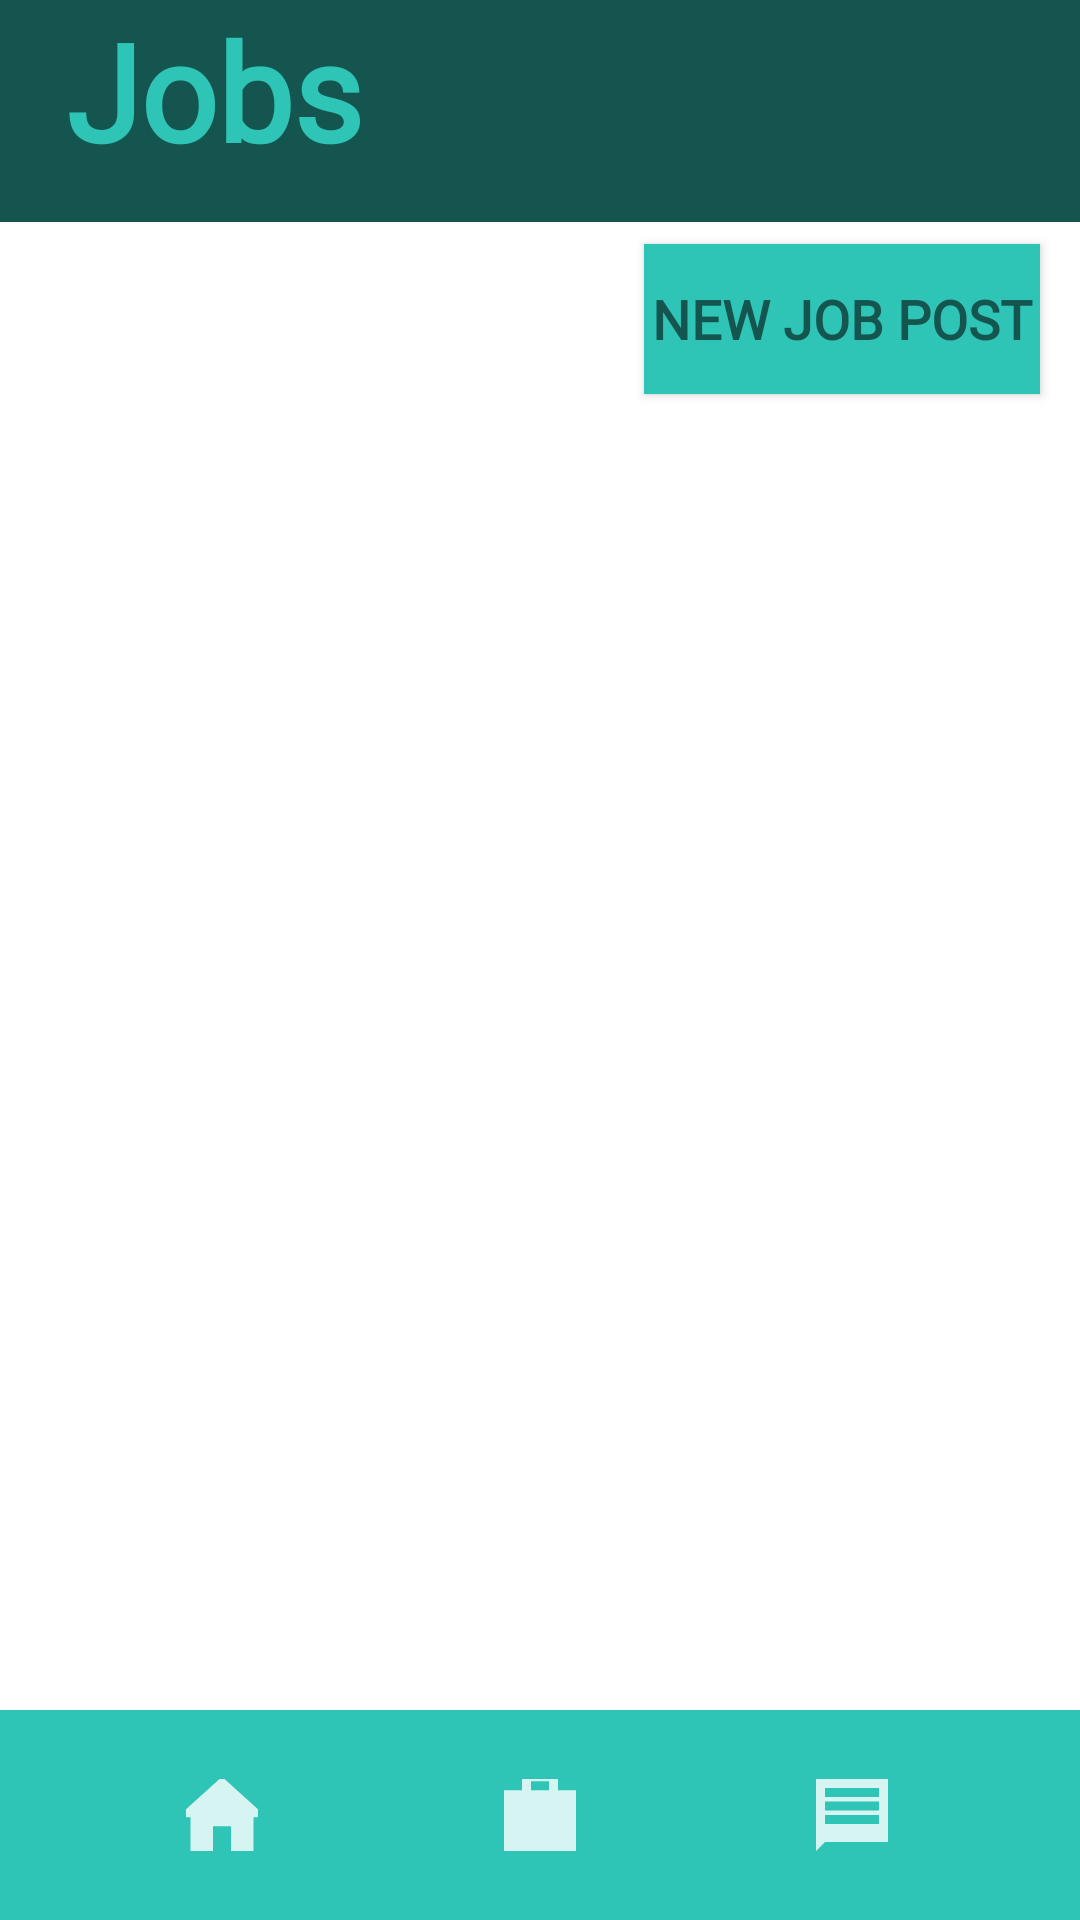

Icon click points for this 1080 x 1920 phone screenshot, format (x,y):
home: (222,1815)
jobs: (540,1815)
messages: (852,1815)
